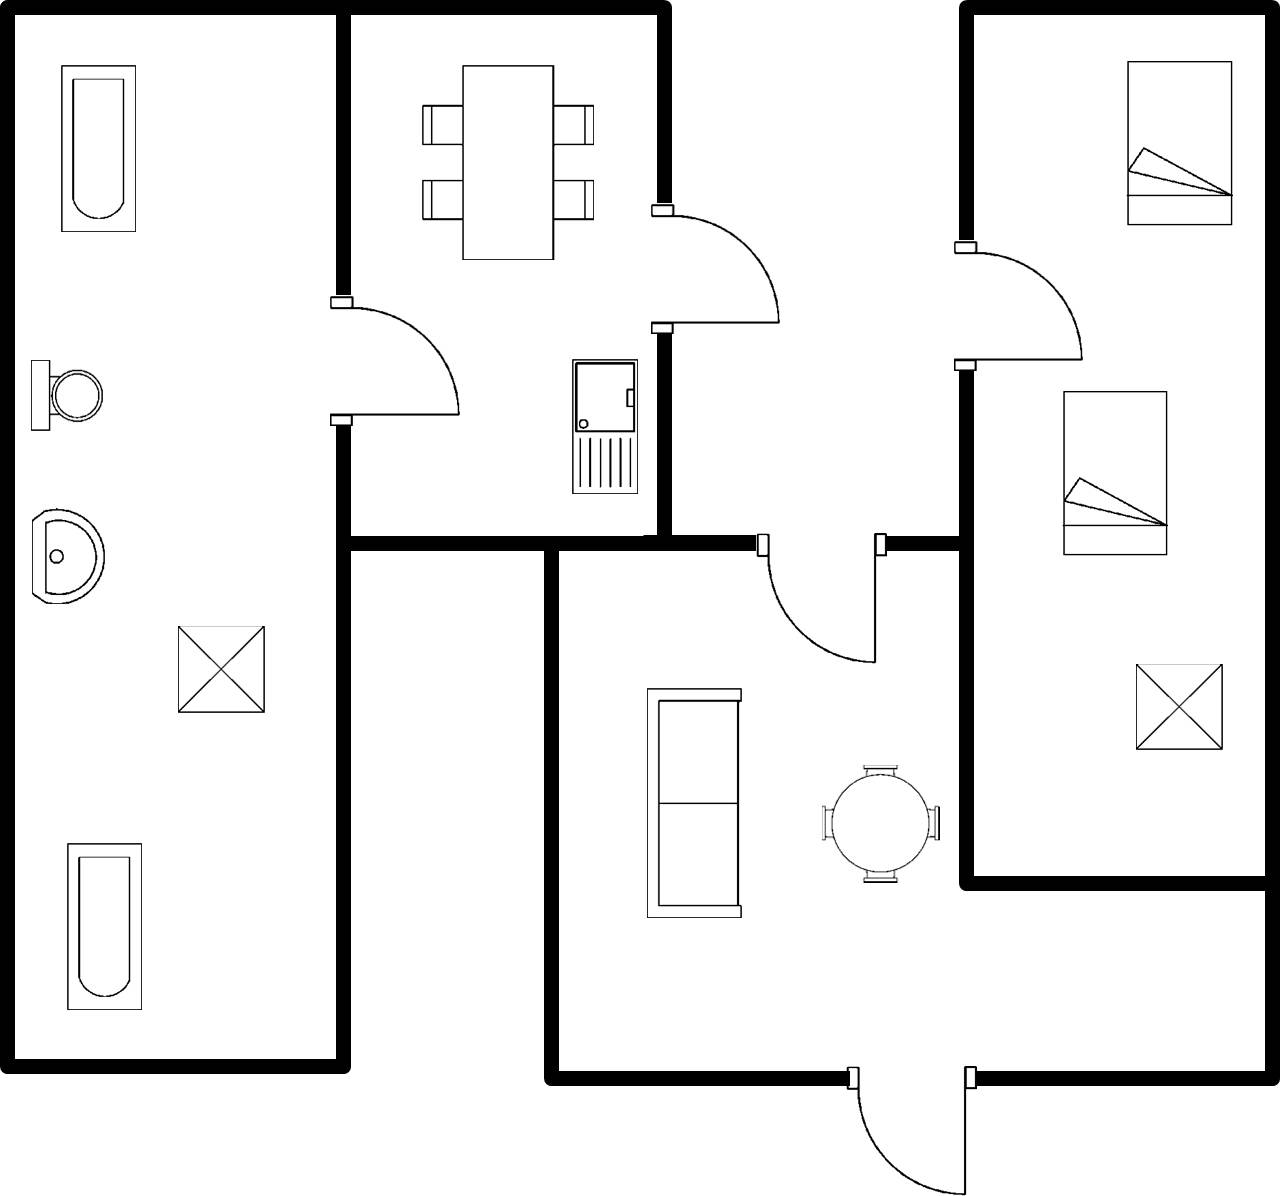bed: (1052, 383, 1181, 568), (1117, 50, 1242, 237)
coffee_table: (168, 618, 278, 724), (1126, 655, 1233, 758)
dining_table: (412, 57, 603, 270)
large_sink: (24, 353, 112, 442)
large_sofa: (638, 679, 754, 931)
round_table: (809, 757, 946, 891)
sink: (561, 348, 647, 505)
small_sink: (25, 502, 112, 614)
tub: (58, 835, 151, 1021), (54, 59, 141, 242)
